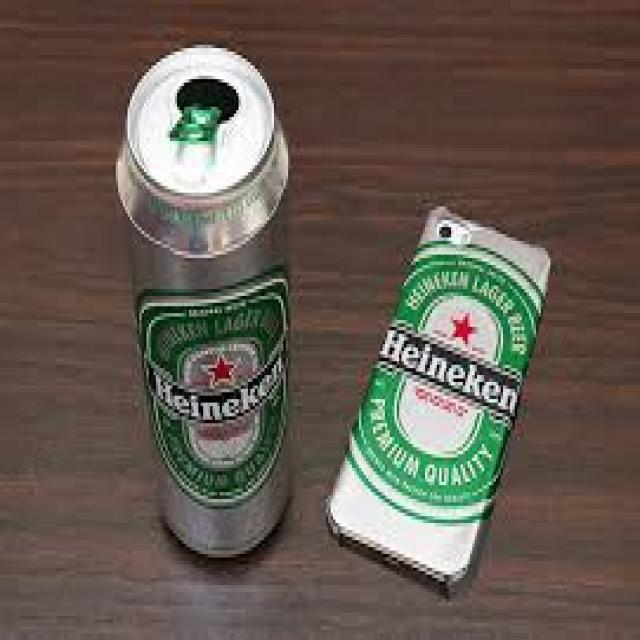recyclable: (117, 42, 293, 563)
